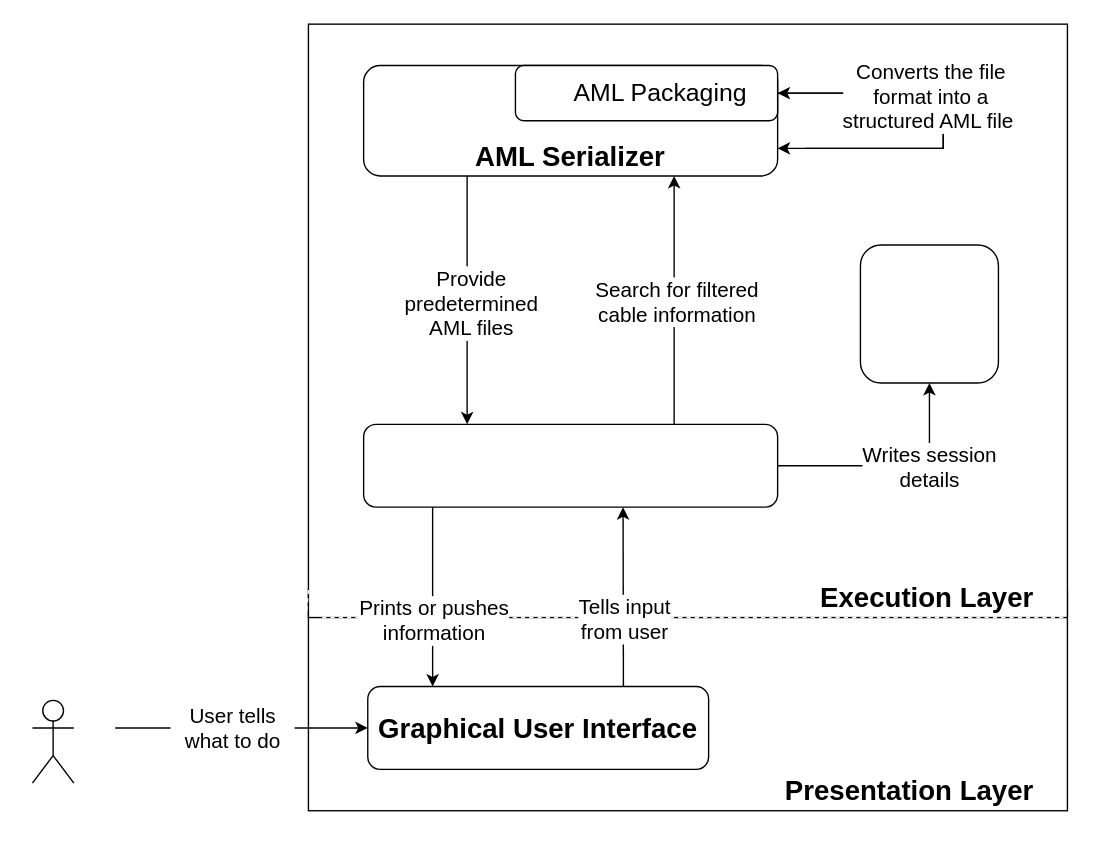
The diagram is 1093 pixels wide and 850 high, and some of its shapes have lost their labels. The centre of each missing label's shape, as x and y in pixels:
Controller: the point at 570,465
Logger: the point at 928,313
User: the point at 52,741
